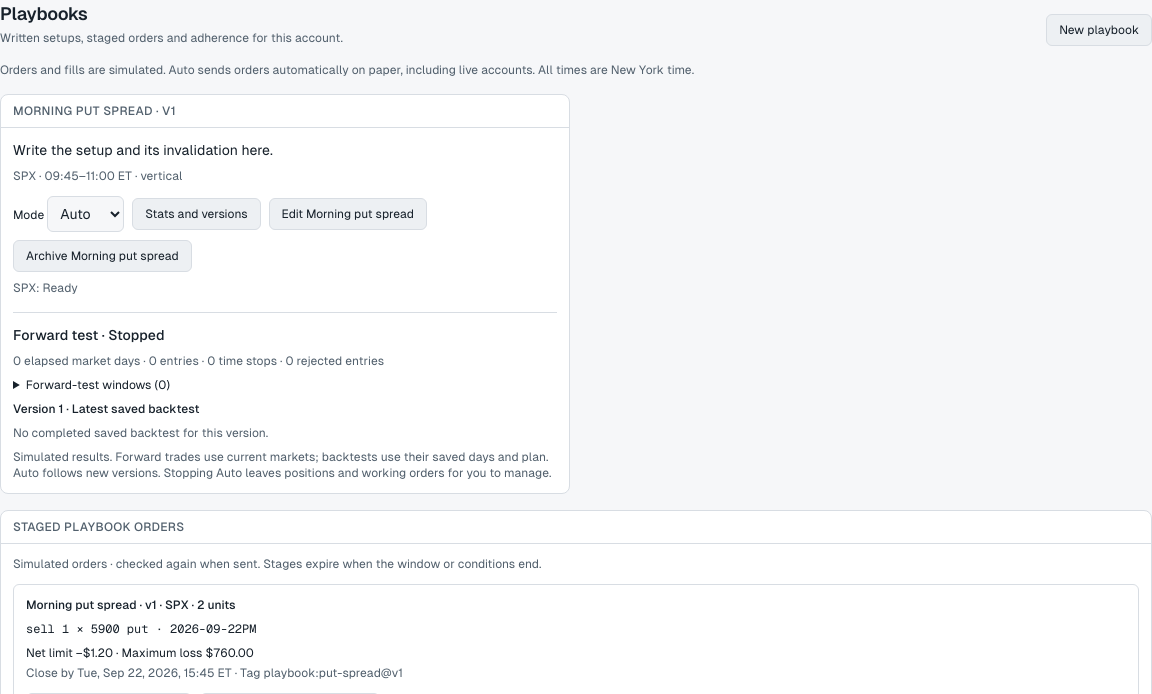
Playbooks page and staged actions › confirms the named live account before enabling Auto and allows cancellation
Select "Auto" in the dropdown named "Mode for Morning put spread": (86, 214) [47, 196, 124, 232]
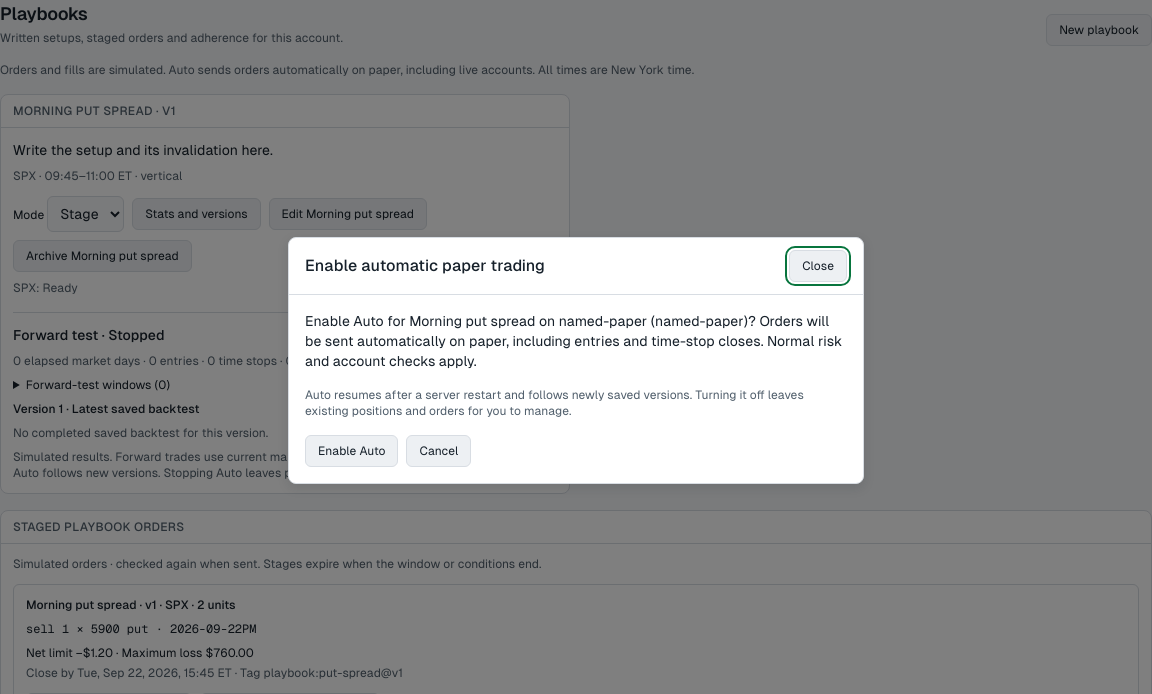
Check: the dialog shows "named-paper", box [559, 312, 647, 328]
Check: the dialog shows "Orders will be sent automatically on paper", box [305, 312, 842, 368]
Click the button "Cancel": (439, 450) [406, 434, 471, 466]
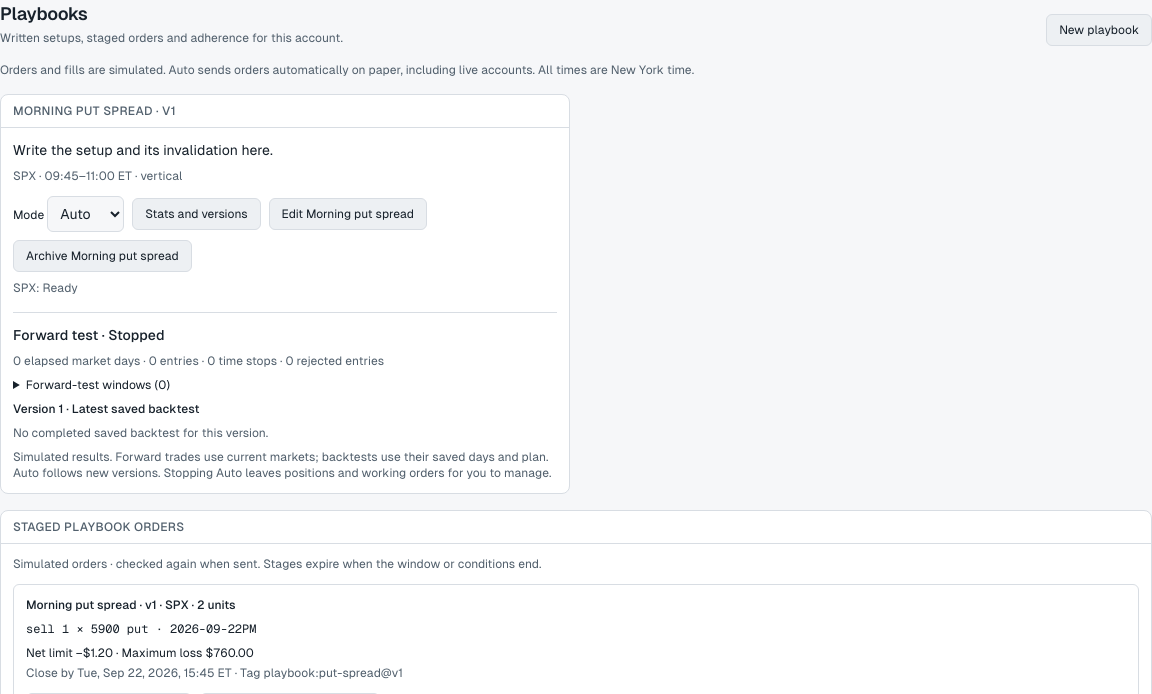
Check: the dialog is gone
Select "Auto" in the dropdown named "Mode for Morning put spread": (86, 214) [47, 196, 124, 232]
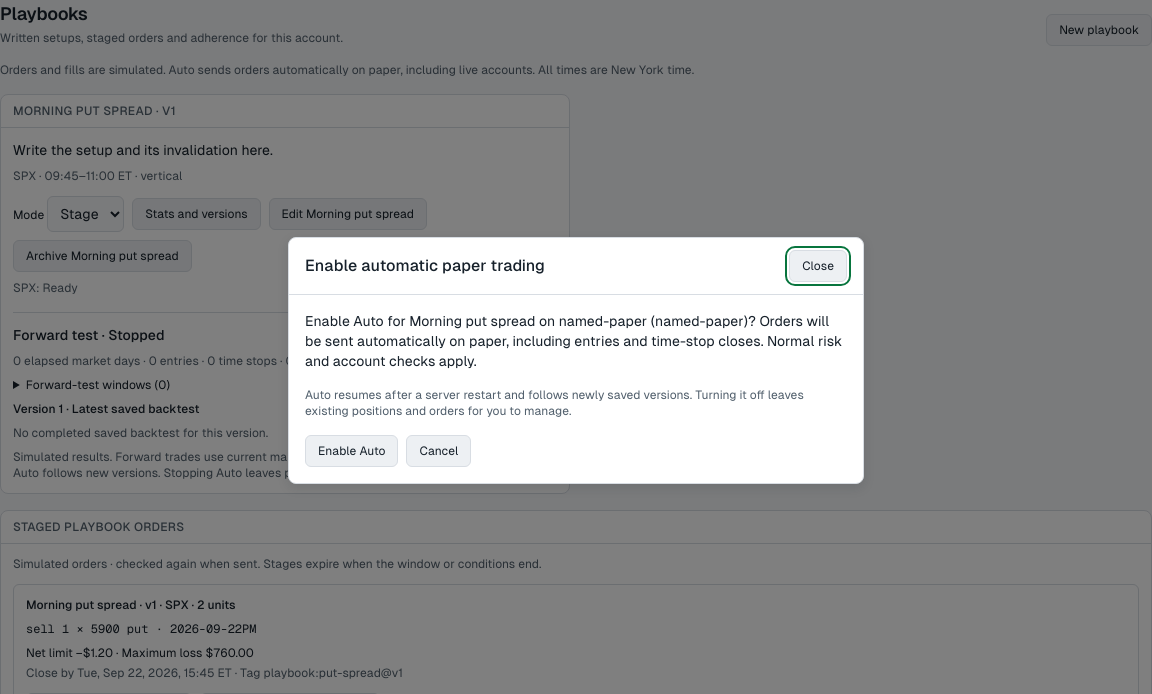
Click the button "Enable Auto": (352, 450) [305, 434, 398, 466]
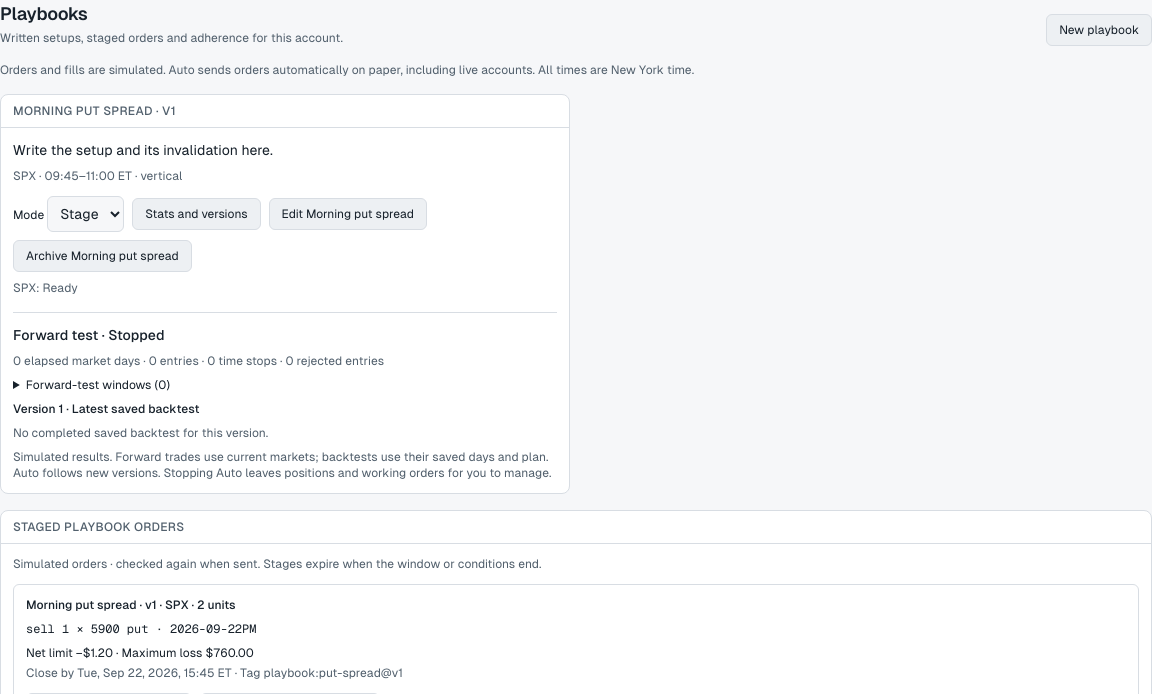
Check: the dialog is gone
